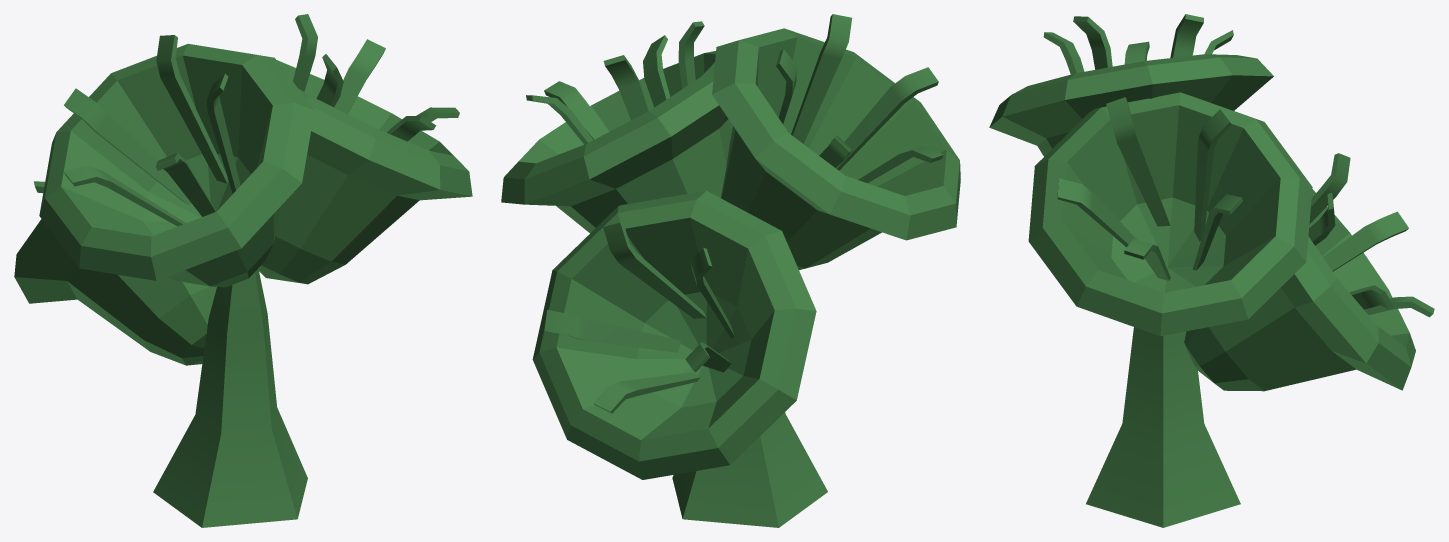
File: mutant plant short.fbx
The picture shows the model from 3 angles, left to right: view 1: azimuth 30°, elevation 25°; view 2: azimuth 150°, elevation 25°; view 3: azimuth 270°, elevation 25°; orthographic projection. The views are drawn at different scales.
Visible parts, largest first — view 1: polySurface296; view 2: polySurface296; view 3: polySurface296.
Boxes of the visible parts, <box> form: polySurface296: <box>14,14,472,527</box>; polySurface296: <box>501,14,960,527</box>; polySurface296: <box>989,14,1434,527</box>.
Bounding box in the file's own units: 6.69 × 7.42 × 6.57.
